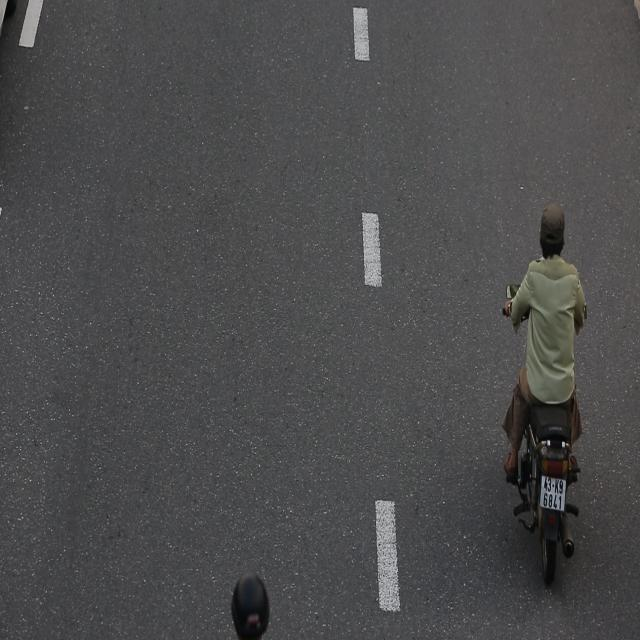motorbike: (502, 193, 590, 594)
